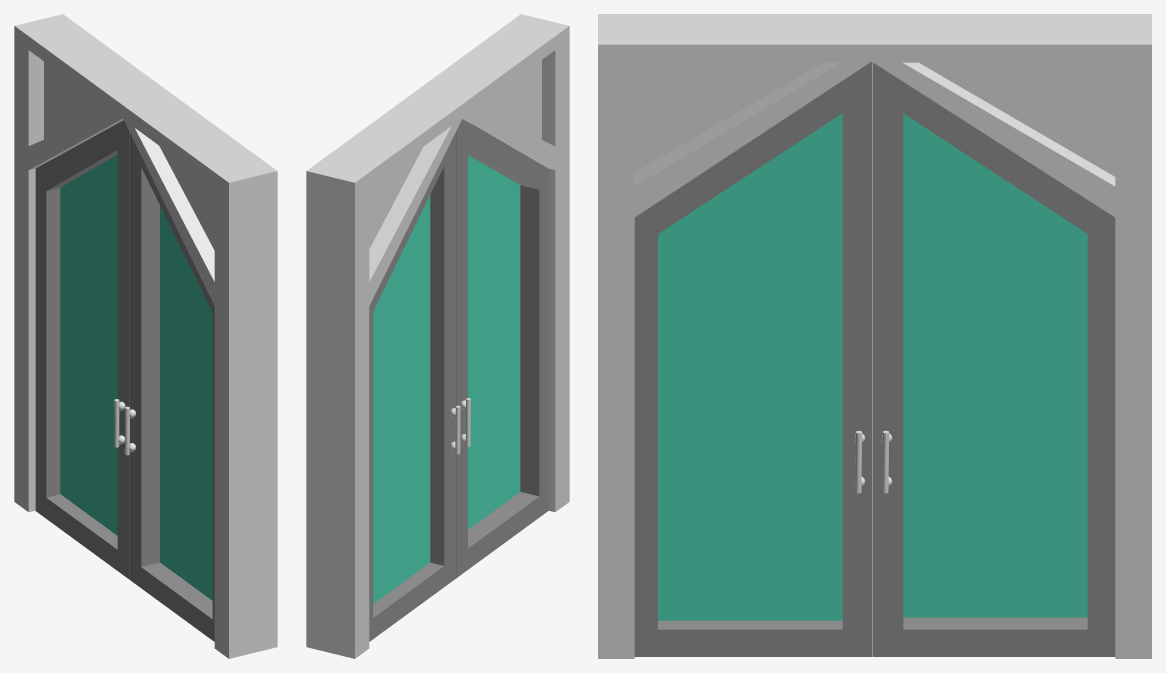
File: nightwing door.FBX
The picture shows the model from 3 angles, left to right: view 1: azimuth 30°, elevation 25°; view 2: azimuth 150°, elevation 25°; view 3: azimuth 270°, elevation 25°; orthographic projection. The views are drawn at different scales.
Visible parts, largest first — view 1: karmit, balconydoor, balconydoor009, doorglass, doorglass005; view 2: karmit, balconydoor009, balconydoor, doorglass005, doorglass; view 3: balconydoor, balconydoor009, karmit, doorglass, doorglass005.
Boxes of the visible parts, box(x1,y1,x2,y2) form: karmit: box(14, 14, 277, 658); balconydoor: box(35, 120, 129, 579); balconydoor009: box(129, 132, 214, 641); doorglass: box(44, 61, 110, 139); doorglass005: box(159, 146, 214, 249); karmit: box(306, 14, 569, 658); balconydoor009: box(456, 119, 548, 578); balconydoor: box(369, 132, 455, 641); doorglass005: box(475, 60, 541, 139); doorglass: box(369, 147, 422, 248); balconydoor: box(873, 62, 1115, 656); balconydoor009: box(634, 61, 872, 656); karmit: box(598, 14, 1151, 658); doorglass: box(919, 62, 1115, 176); doorglass005: box(634, 62, 822, 172).
Size of the model in its own units: 0.3386 by 2.77 by 2.26.
